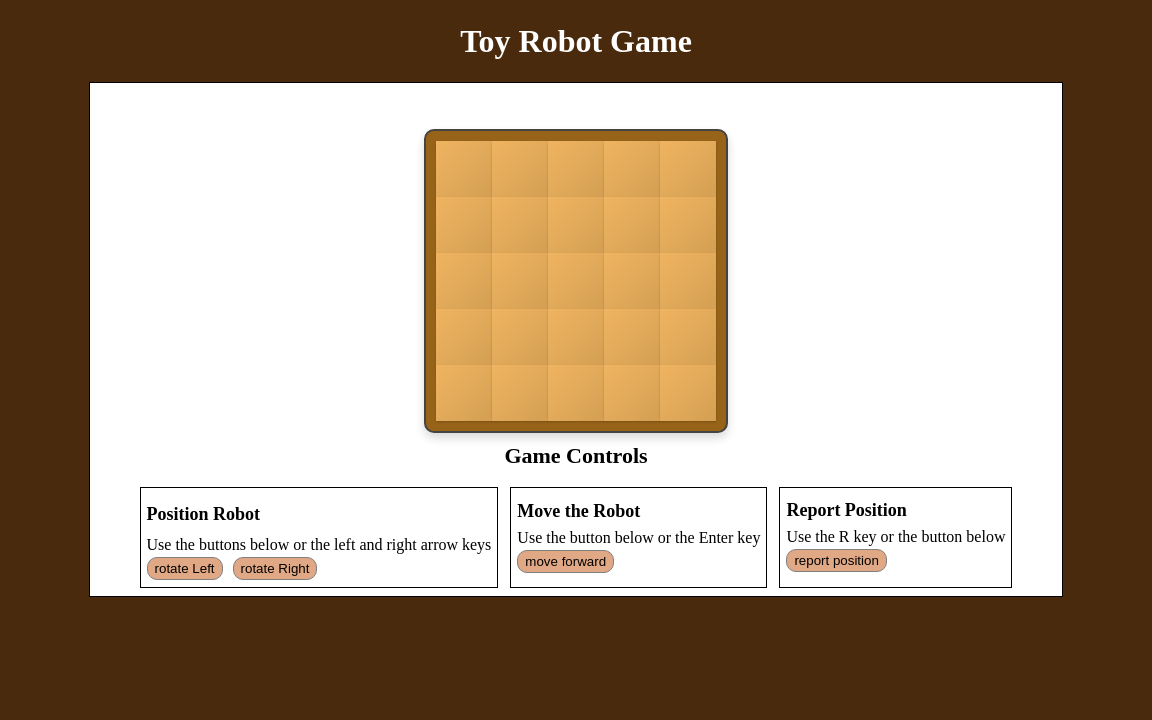
Test: moves robot when pressing Enter key
The image size is (1152, 720).
Click the element with test id "4-0" at [464, 393], box [436,365,492,421]
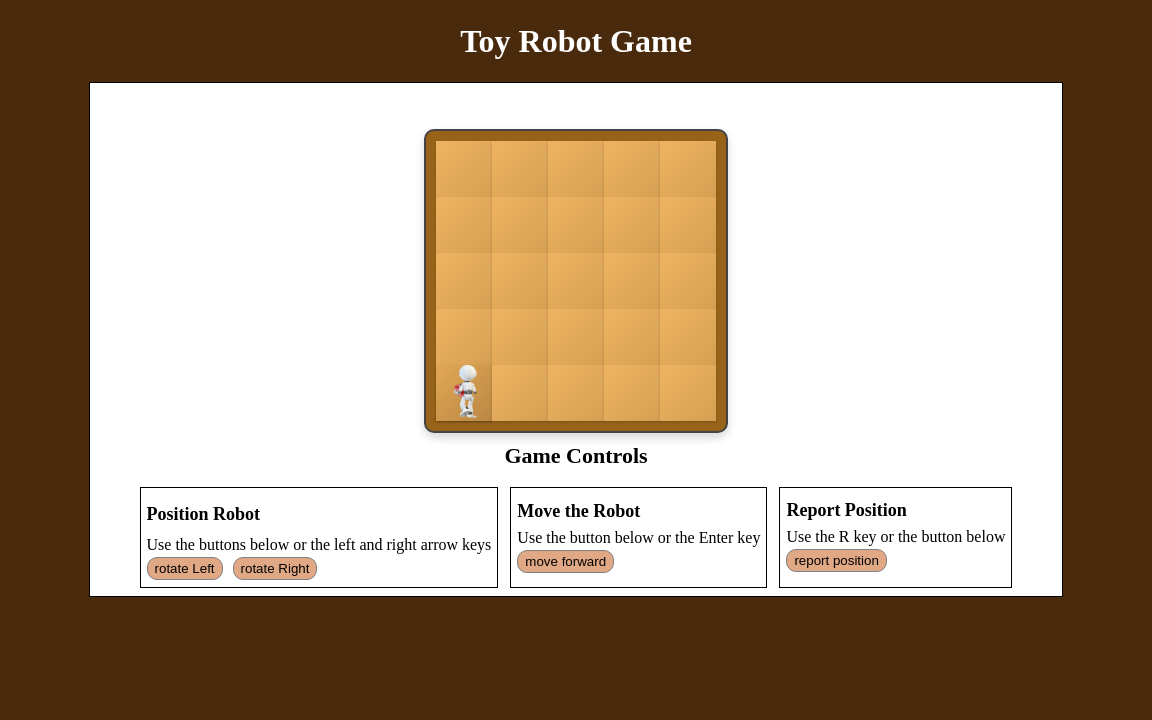
Press Enter
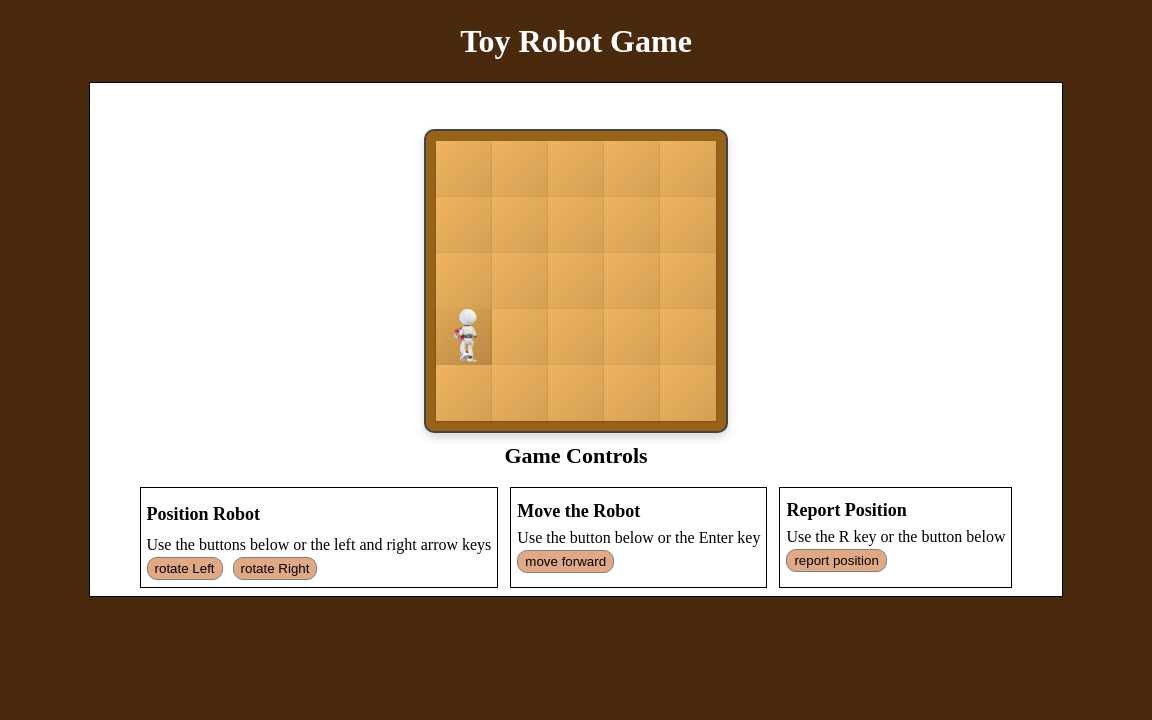
Press r
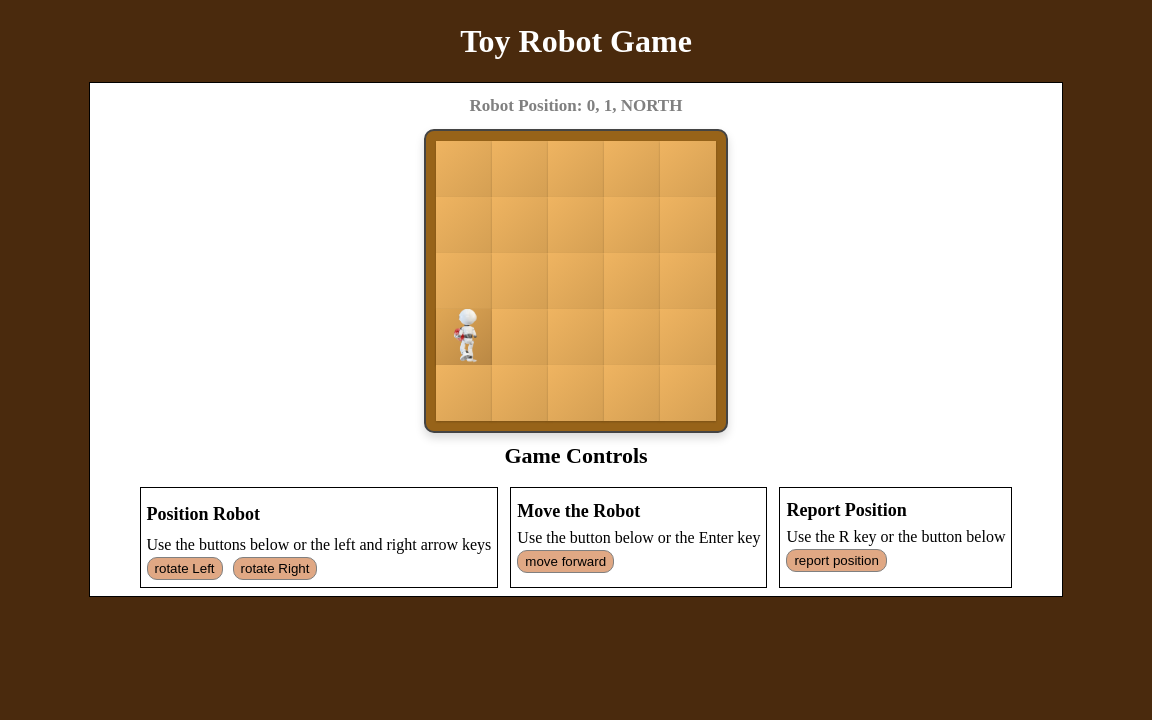
Expected: the text "Robot Position: 0, 1, NORTH" is shown, [99,91,1053,121]
